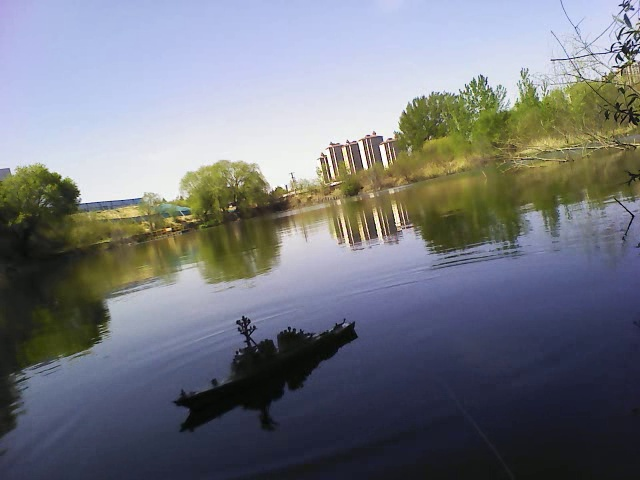warship: (170, 309, 350, 410)
